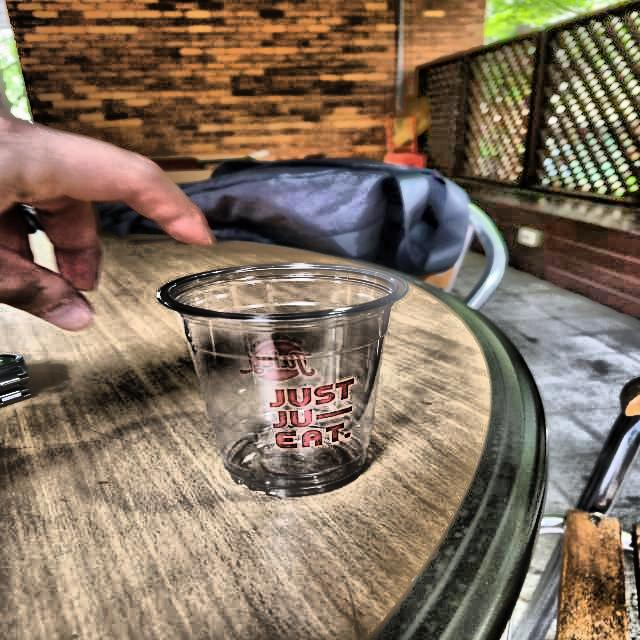plastic cup: (151, 255, 418, 504)
